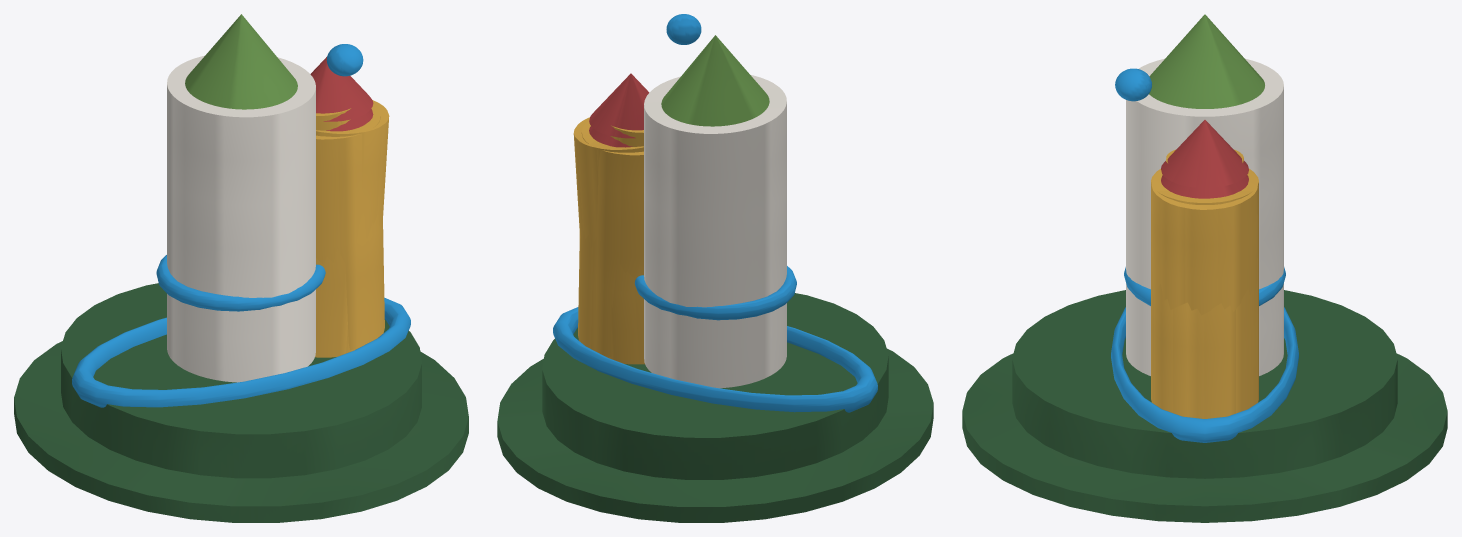
The model's file is 0556_岩石矿物图鉴_霰石.glb.
3 views of the same model, side by side, from view 1: azimuth 30°, elevation 25°; view 2: azimuth 150°, elevation 25°; view 3: azimuth 270°, elevation 25° (orthographic). The views are drawn at different scales.
Visible parts, largest first — view 1: card_0556; view 2: card_0556; view 3: card_0556.
Part boxes in pixels (box(x1,y1,x2,y2)): card_0556: box(14, 14, 468, 522); card_0556: box(497, 14, 933, 522); card_0556: box(962, 14, 1447, 522).
Size of the model in its own units: 0.9874 by 1 by 1.06.
